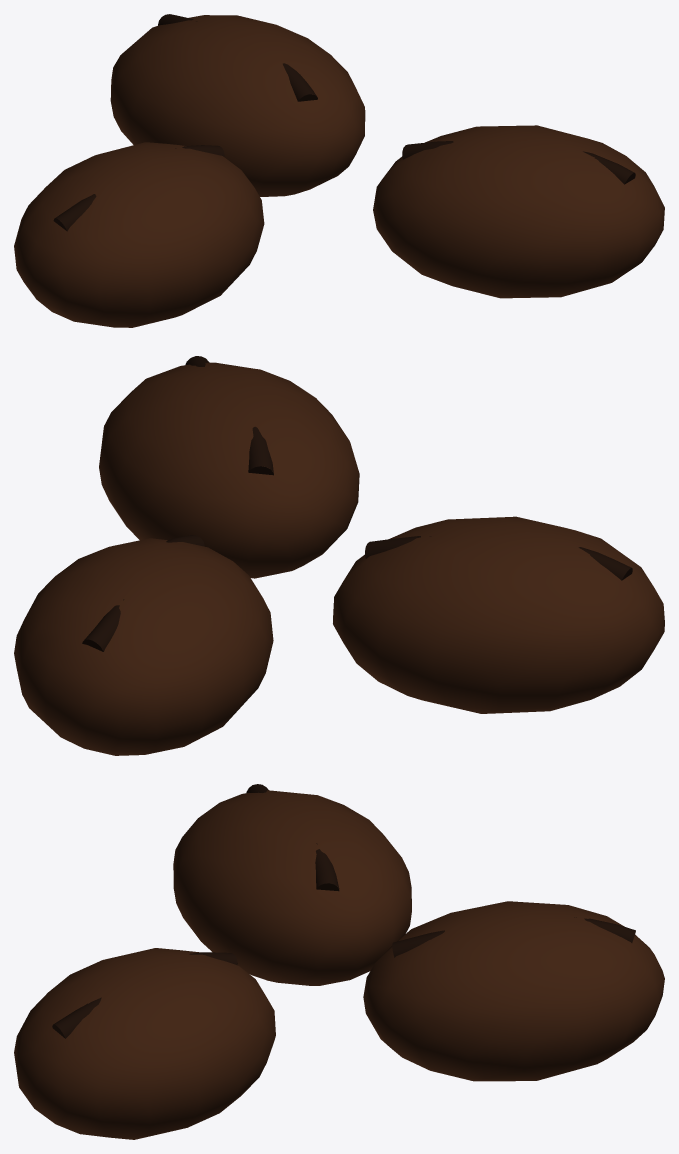
Rendered from kaffee.glb.
3 renders of one model, top to bottom at view 1: azimuth 30°, elevation 25°; view 2: azimuth 150°, elevation 25°; view 3: azimuth 270°, elevation 25°, orthographic. The views are drawn at different scales.
Parts seen in each view (by area): view 1: p1, p0, p2; view 2: p0, p2, p1; view 3: p2, p1, p0.
Boxes of the visible parts, bbox=[...] form: p1: bbox=[373, 125, 664, 298]; p0: bbox=[14, 142, 264, 327]; p2: bbox=[110, 14, 365, 196]; p0: bbox=[333, 516, 664, 713]; p2: bbox=[14, 535, 273, 755]; p1: bbox=[99, 356, 359, 578]; p2: bbox=[363, 901, 664, 1081]; p1: bbox=[14, 948, 275, 1139]; p0: bbox=[173, 784, 411, 985].
Bounding box in the file's own units: 0.0266 × 0.00682 × 0.0265.
